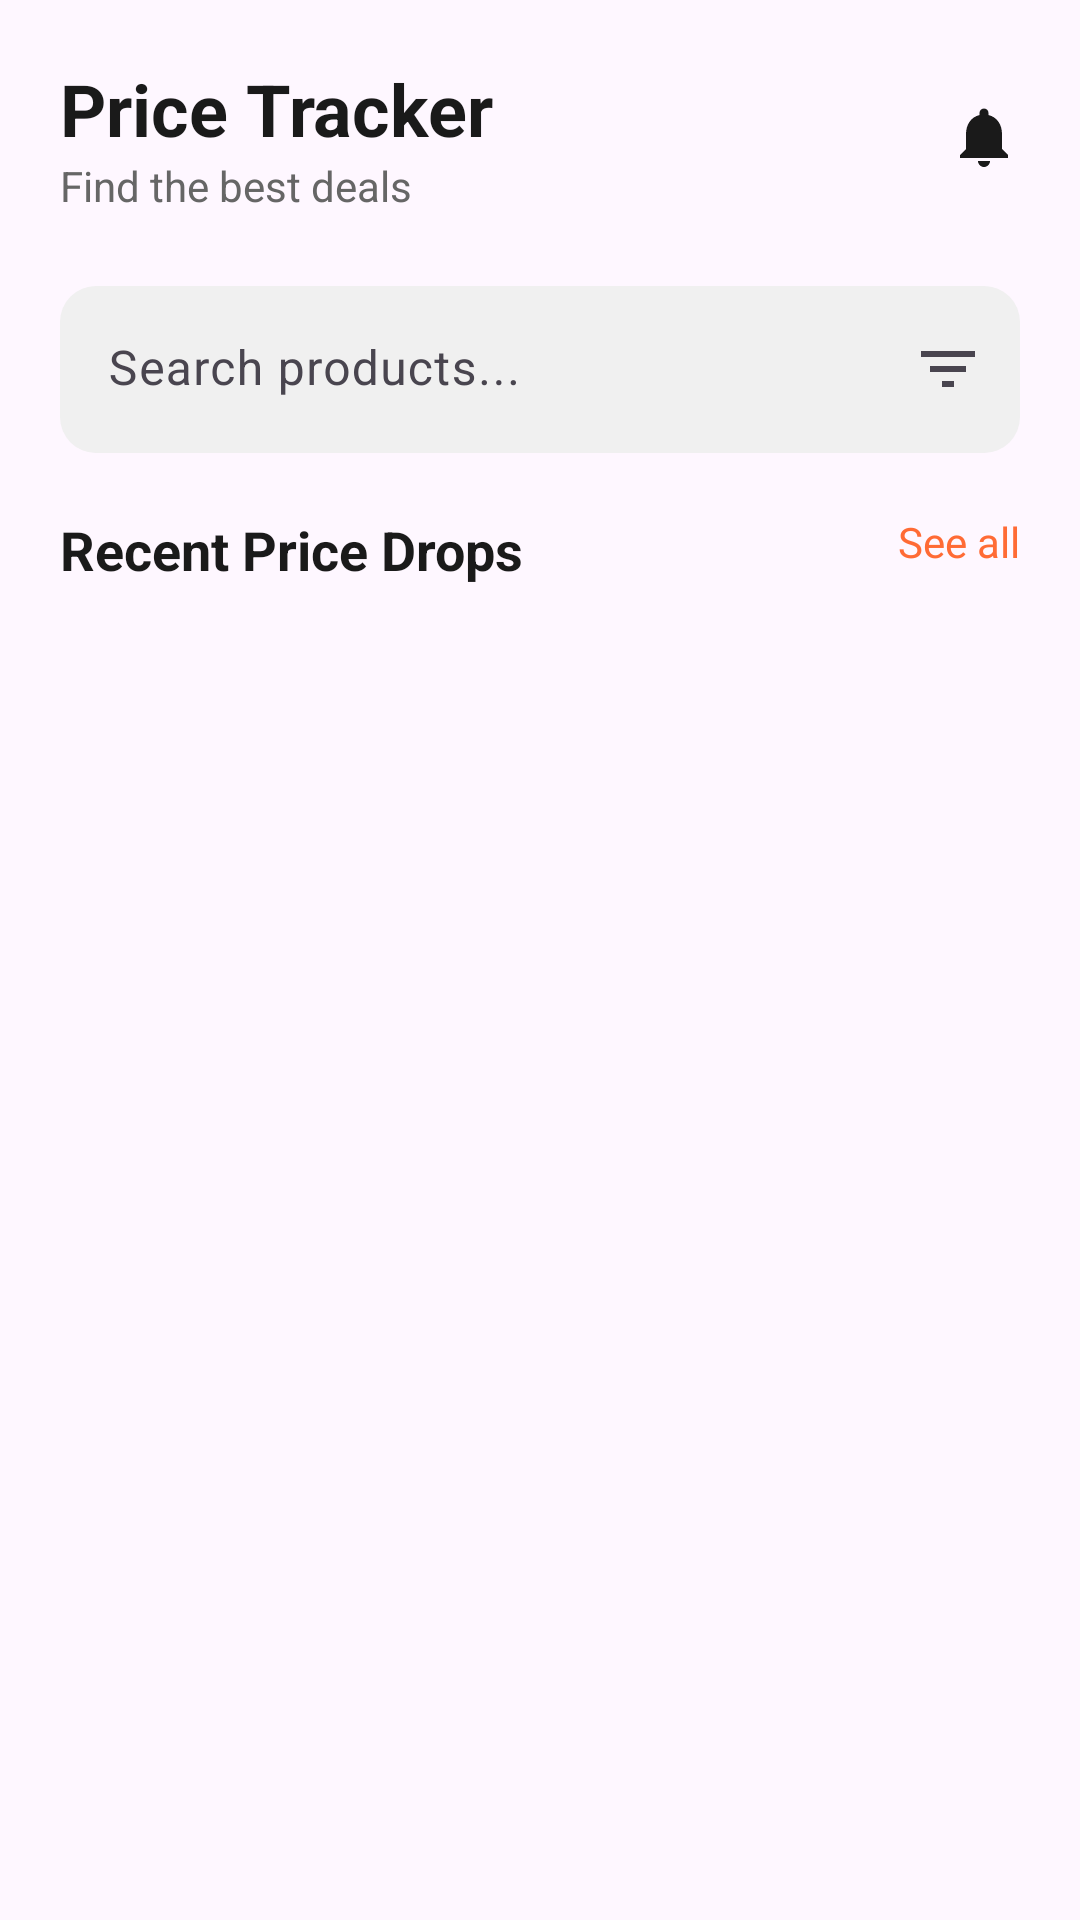

Named icons in this screenshot (1080x1920) and their centers, (x=x, y=y):
Notifications: (x=984, y=137)
